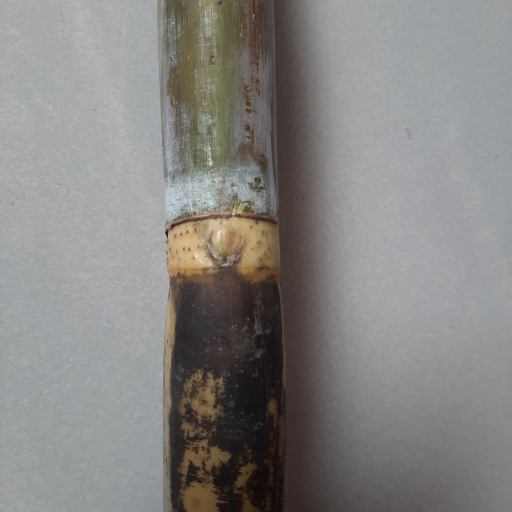Bud: (205, 221, 246, 265)
